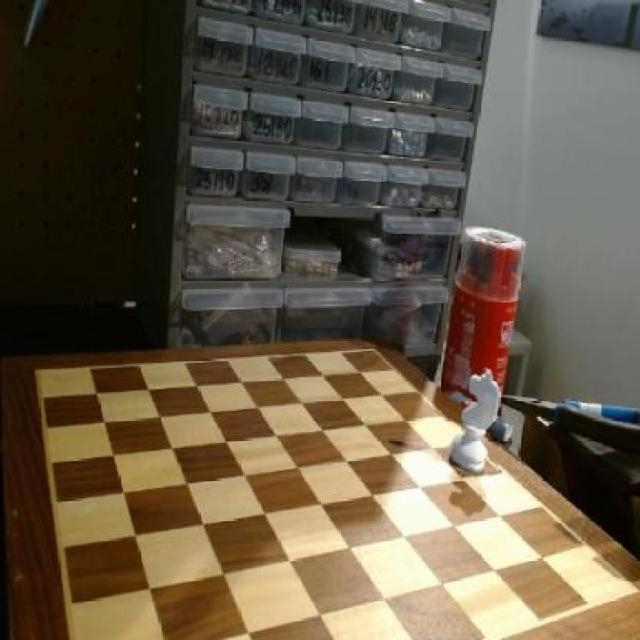white-king: (450, 368, 502, 482)
